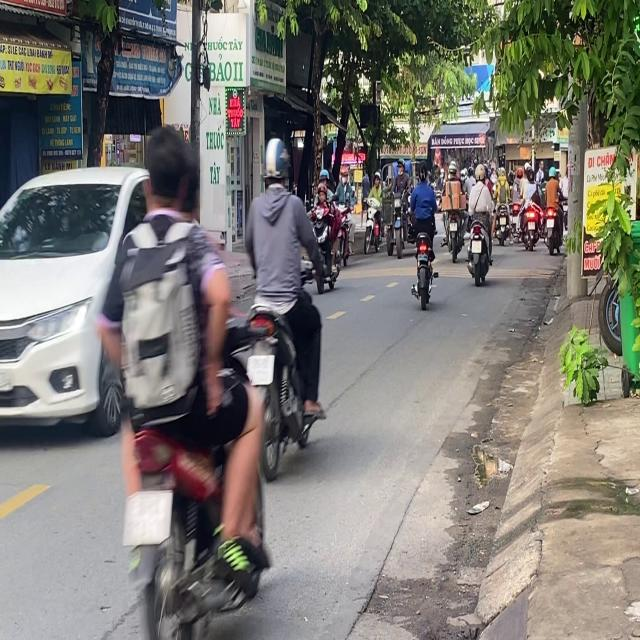helmet: (261, 136, 289, 191)
licenseplate: (87, 119, 280, 636), (237, 133, 326, 478)
motorcyclist: (141, 124, 198, 222)
nohelmet: (123, 490, 172, 543), (248, 354, 274, 382)
